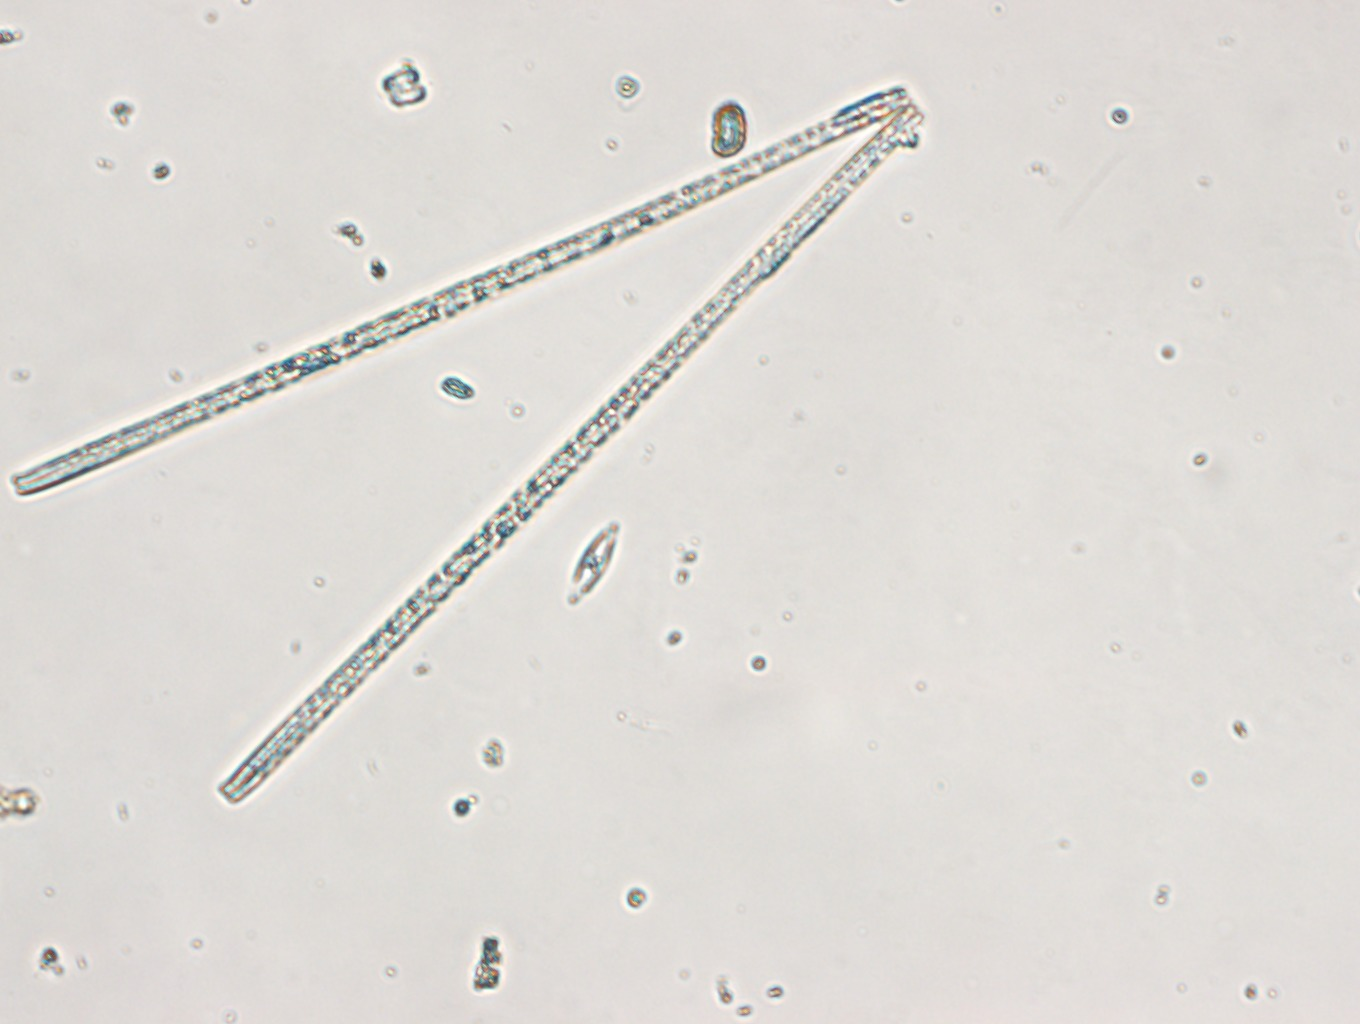navicula: (567, 516, 622, 611)
thalassionema frauenfeldii: (8, 82, 927, 809)
